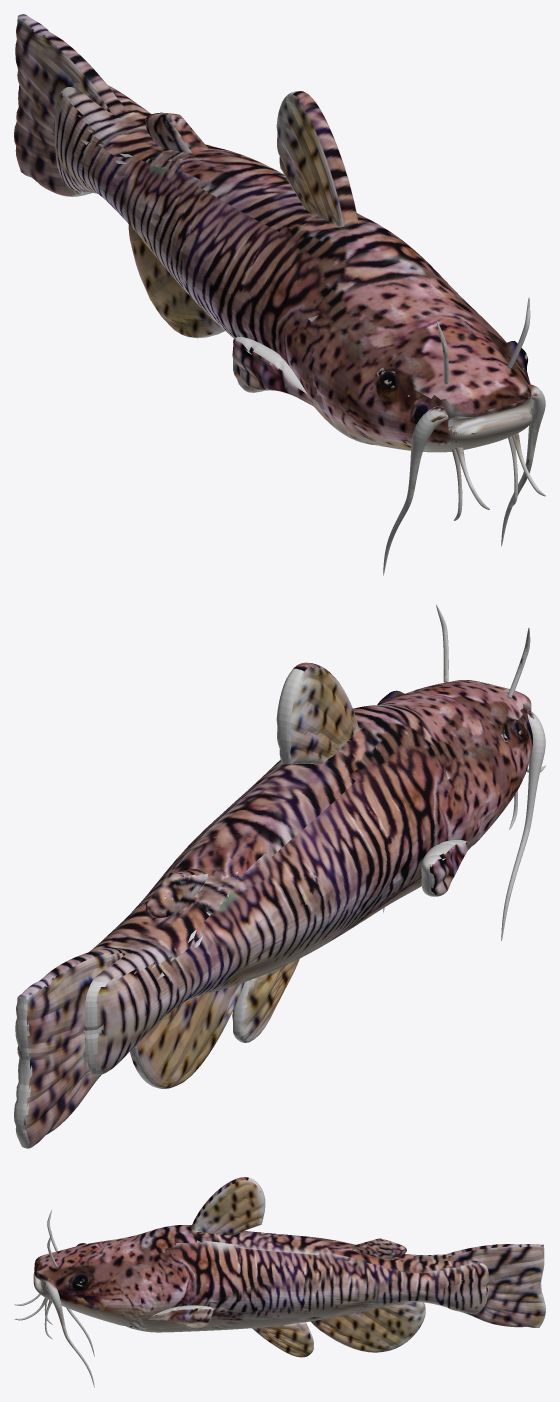
3 renders of one model, top to bottom at view 1: azimuth 30°, elevation 25°; view 2: azimuth 150°, elevation 25°; view 3: azimuth 270°, elevation 25°, orthographic. The views are drawn at different scales.
Parts seen in each view (by area): view 1: Catfish; view 2: Catfish; view 3: Catfish.
Part boxes in pixels (x1,y1,x2,y2): Catfish: [14, 14, 545, 575]; Catfish: [14, 604, 545, 1148]; Catfish: [14, 1177, 545, 1387].
Bounding box in the file's own units: 167 × 283 × 701.
